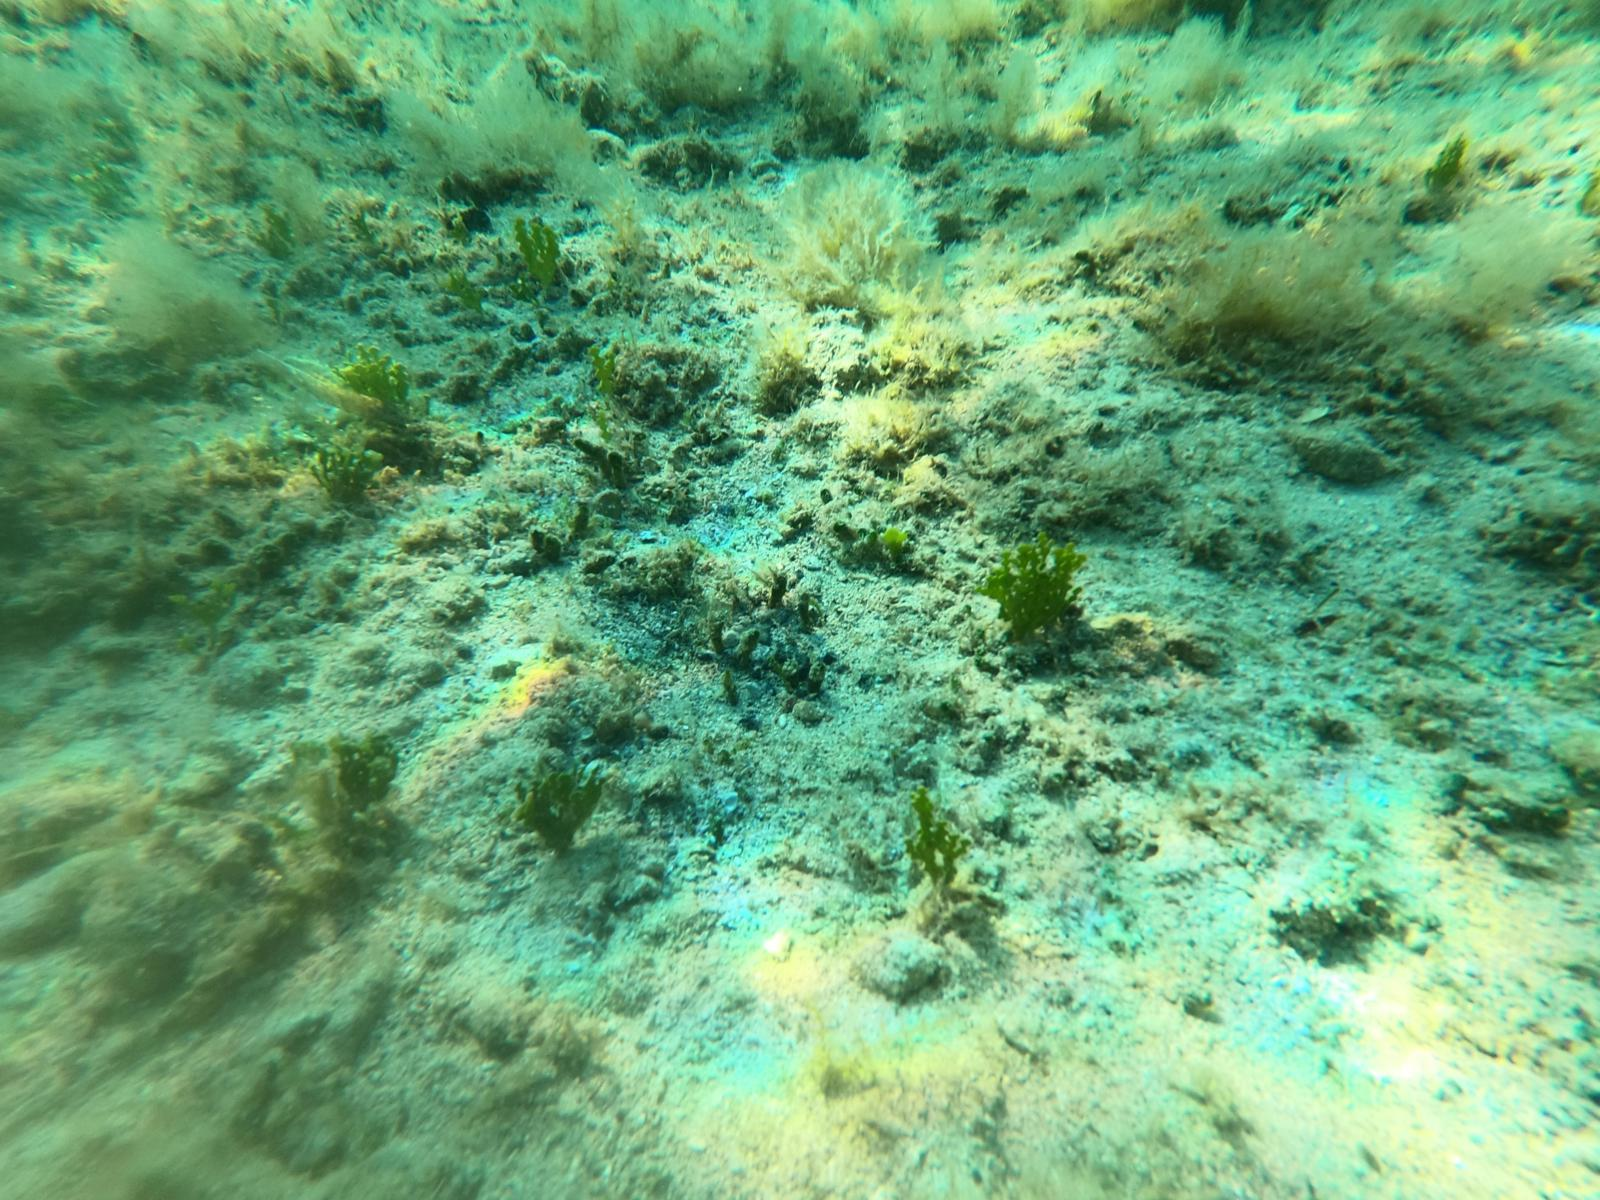halimeda: (978, 529, 1080, 638), (511, 760, 602, 860), (902, 780, 968, 890), (329, 343, 416, 415), (326, 732, 399, 812), (171, 582, 237, 666), (312, 439, 384, 500), (511, 212, 563, 297), (1424, 130, 1468, 199), (247, 202, 299, 260), (582, 342, 625, 411), (442, 271, 483, 316), (876, 523, 908, 563), (351, 211, 374, 239)
